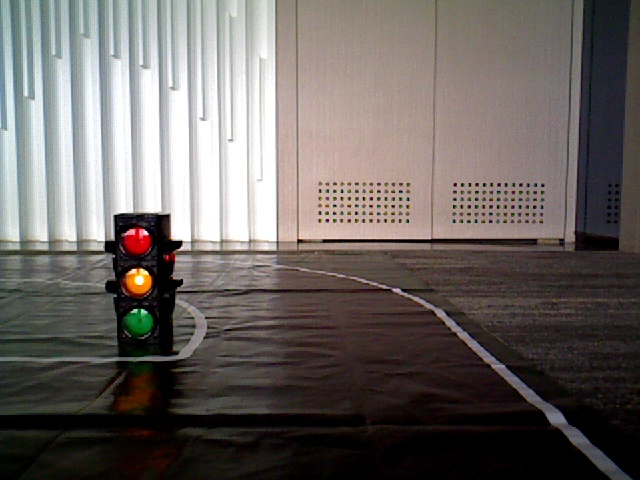yellow: (116, 216, 164, 345)
